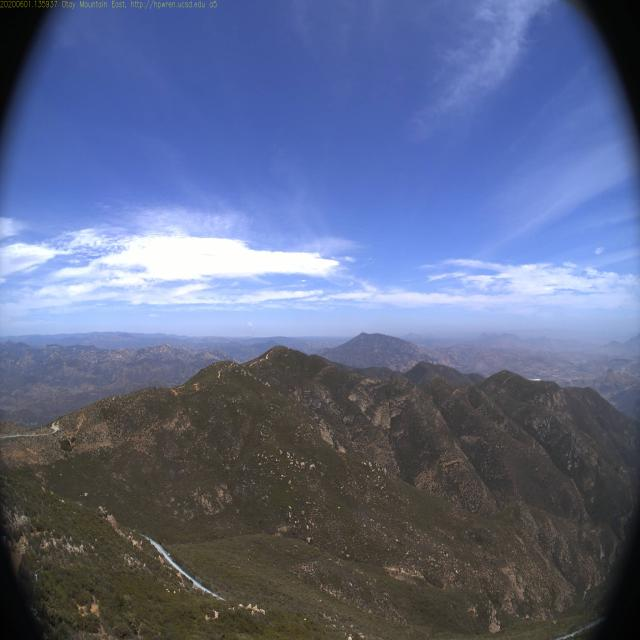smoke: (240, 317, 258, 340)
